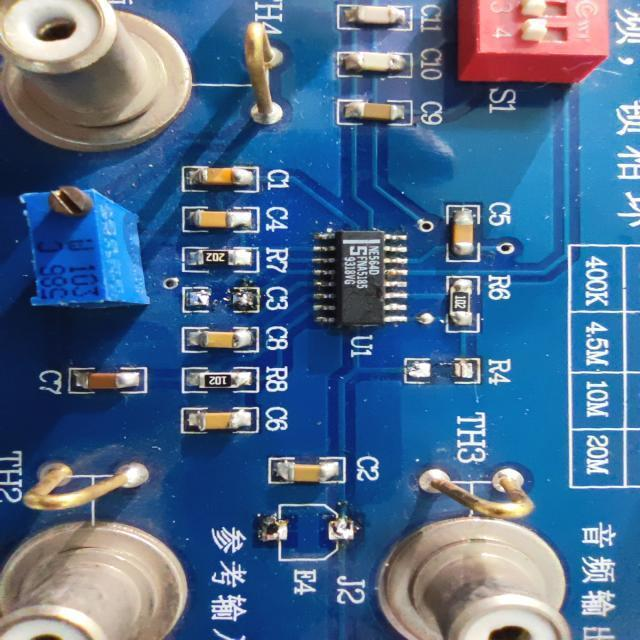Missing component: (248, 490, 370, 563), (174, 278, 294, 320), (401, 349, 518, 392)
